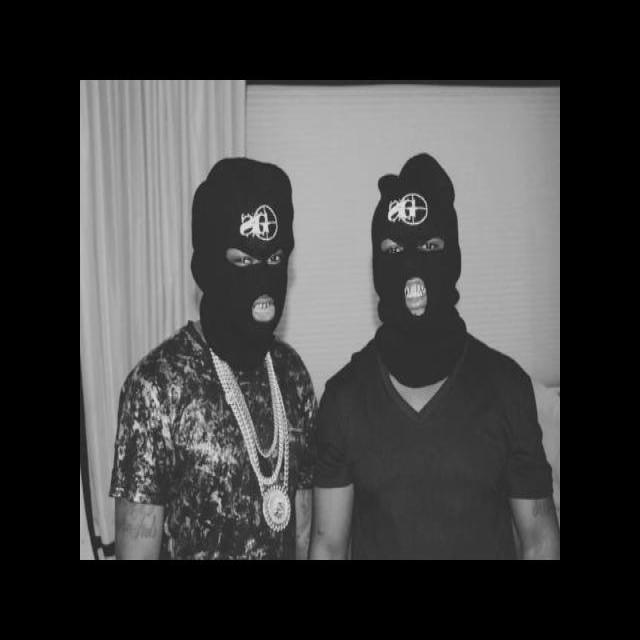6_pasamontana: (370, 153, 466, 386)
